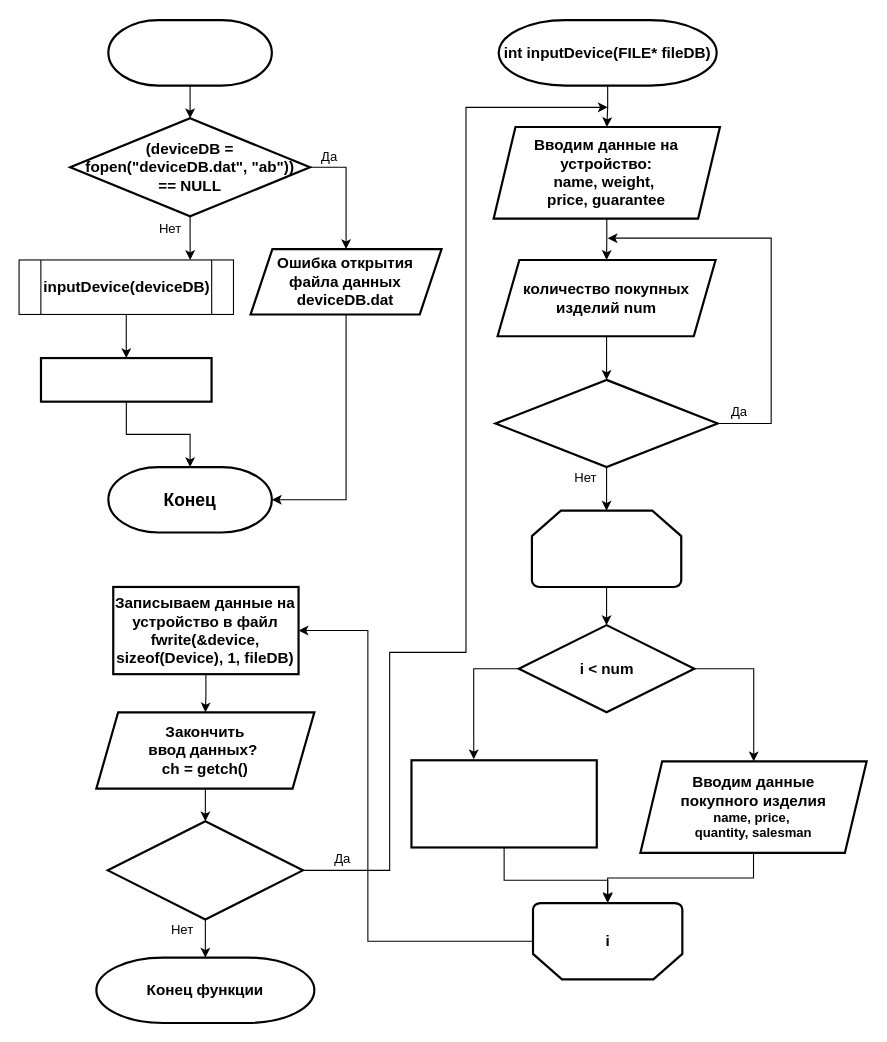
The diagram is 887 pixels wide and 1042 high, and some of its shapes have lost their labels. The shapes that lost their labels are listed below. From the top down, each one's centre as x and y in pixels, then its label:
pixel 189 52: Начало
pixel 125 379: fclose(deviceDB)
pixel 606 423: num > 50 || num < 0
pixel 606 548: i = 0; i < 50; i++
pixel 503 803: Обнуляем данные покупного изделия name, price, quantity, salesman
pixel 204 870: ch != 'y' && ch != 'Y' && ch != 'н' && ch != 'Н'
